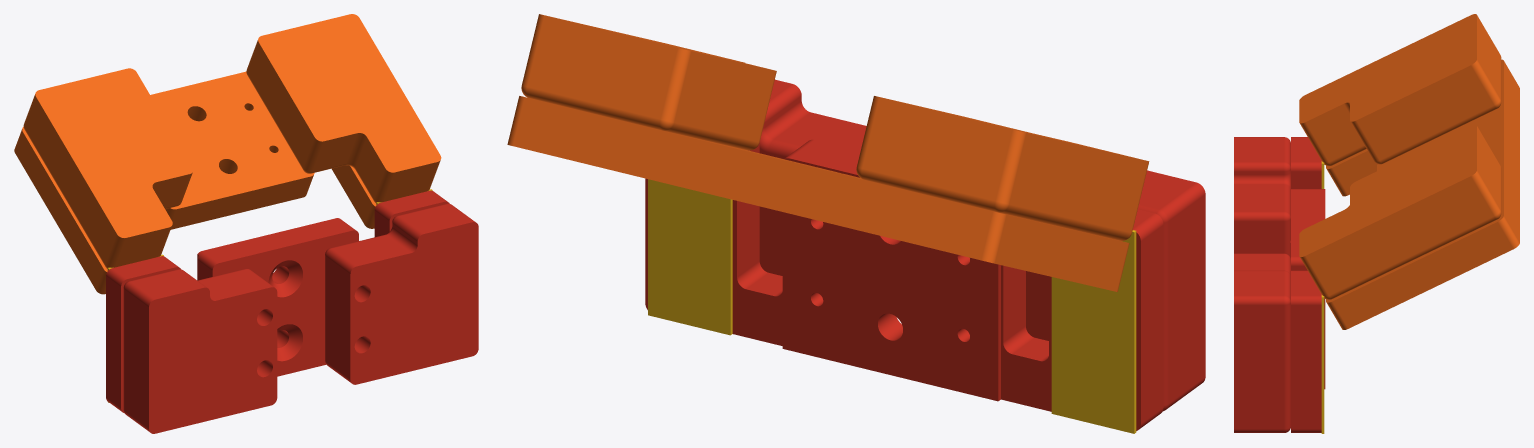
File: HR-V0_J2_positive_stop_contact_candidate.glb
3 views of the same model, side by side, from view 1: azimuth 30°, elevation 25°; view 2: azimuth 150°, elevation 25°; view 3: azimuth 270°, elevation 25° (orthographic). The views are drawn at different scales.
Parts seen in each view (by area): view 1: MV0-C06_MOVING_STRIKER_AT_CONTACT, MV0-C07_FIXED_CATCH; view 2: MV0-C06_MOVING_STRIKER_AT_CONTACT, MV0-C07_FIXED_CATCH, BUMPER_SR1_MAXIMUM_ENVELOPE_SELECTION_REQUIRED; view 3: MV0-C06_MOVING_STRIKER_AT_CONTACT, MV0-C07_FIXED_CATCH, BUMPER_SR1_MAXIMUM_ENVELOPE_SELECTION_REQUIRED.
Part boxes in pixels (x1,y1,x2,y2): MV0-C06_MOVING_STRIKER_AT_CONTACT: [14, 14, 441, 294]; MV0-C07_FIXED_CATCH: [106, 190, 478, 433]; MV0-C06_MOVING_STRIKER_AT_CONTACT: [507, 14, 1149, 291]; MV0-C07_FIXED_CATCH: [645, 79, 1205, 430]; BUMPER_SR1_MAXIMUM_ENVELOPE_SELECTION_REQUIRED: [648, 179, 1136, 433]; MV0-C06_MOVING_STRIKER_AT_CONTACT: [1299, 14, 1519, 329]; MV0-C07_FIXED_CATCH: [1234, 137, 1325, 432]; BUMPER_SR1_MAXIMUM_ENVELOPE_SELECTION_REQUIRED: [1321, 161, 1324, 433].
Size of the model in its own units: 108 by 80.07 by 79.54.
